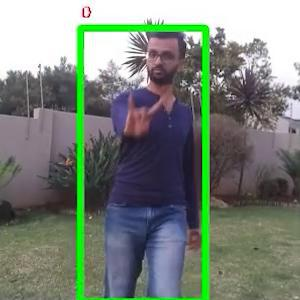takeoff-hand: (120, 88, 172, 143)
